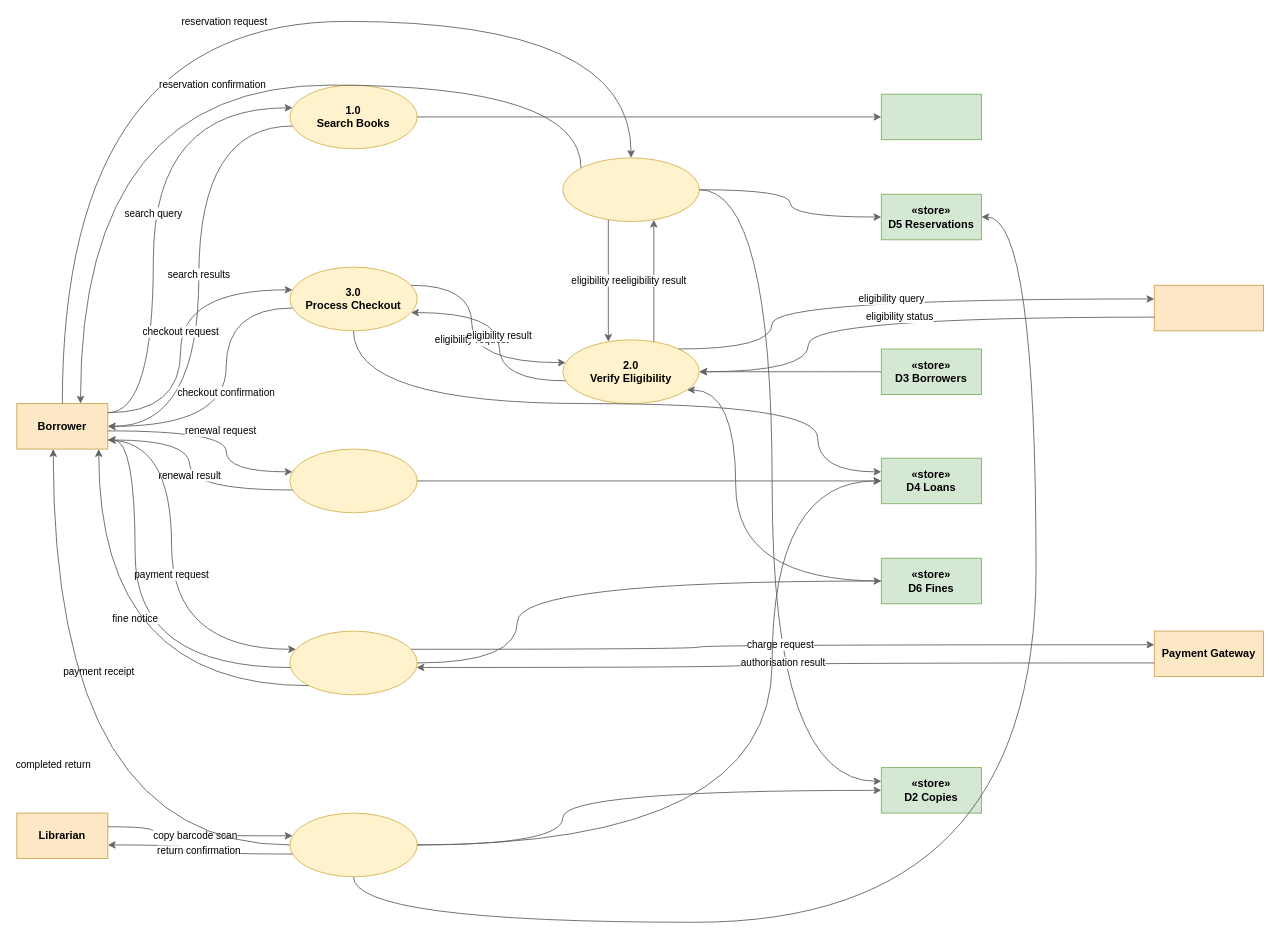
The diagram is 1279 pixels wide and 938 high, and some of its shapes have lost their labels. The box of each missing label's shape, as (x1, y1, x2, y2) in pixels:
4.0 Manage Reservations: (562, 157, 699, 222)
5.0 Process Return: (289, 812, 417, 877)
6.0 Settle Fine: (289, 630, 417, 695)
7.0 Renew Loan: (289, 448, 417, 513)
University SSO: (1153, 284, 1264, 331)
«store» D1 Books: (880, 93, 981, 140)
